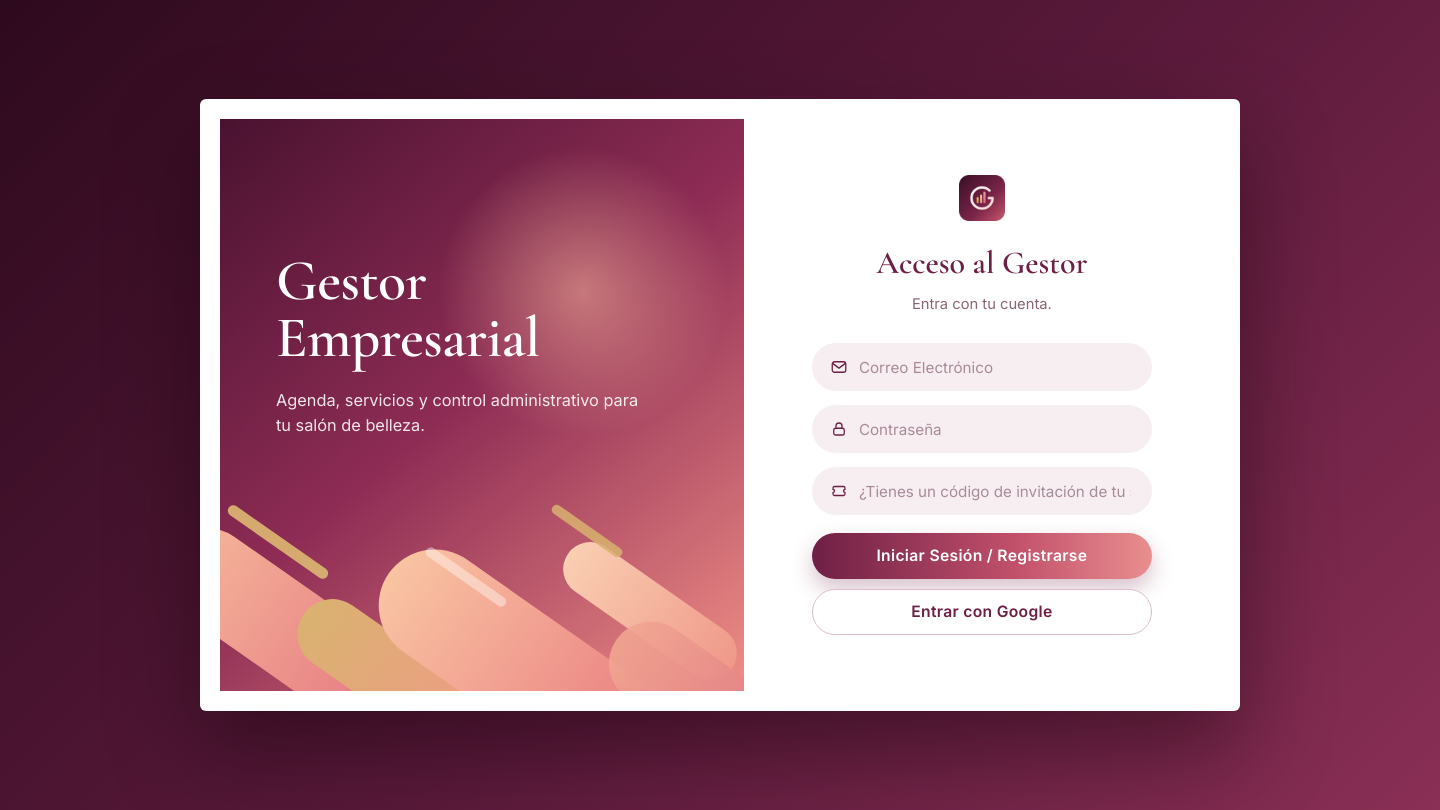
AuthScreen › muestra el mensaje de éxito cuando se envía el correo de registro
The image size is (1440, 810).
In the field labelled "Correo Electrónico": (982, 367) [812,343,1152,391], type "ana@test.com"
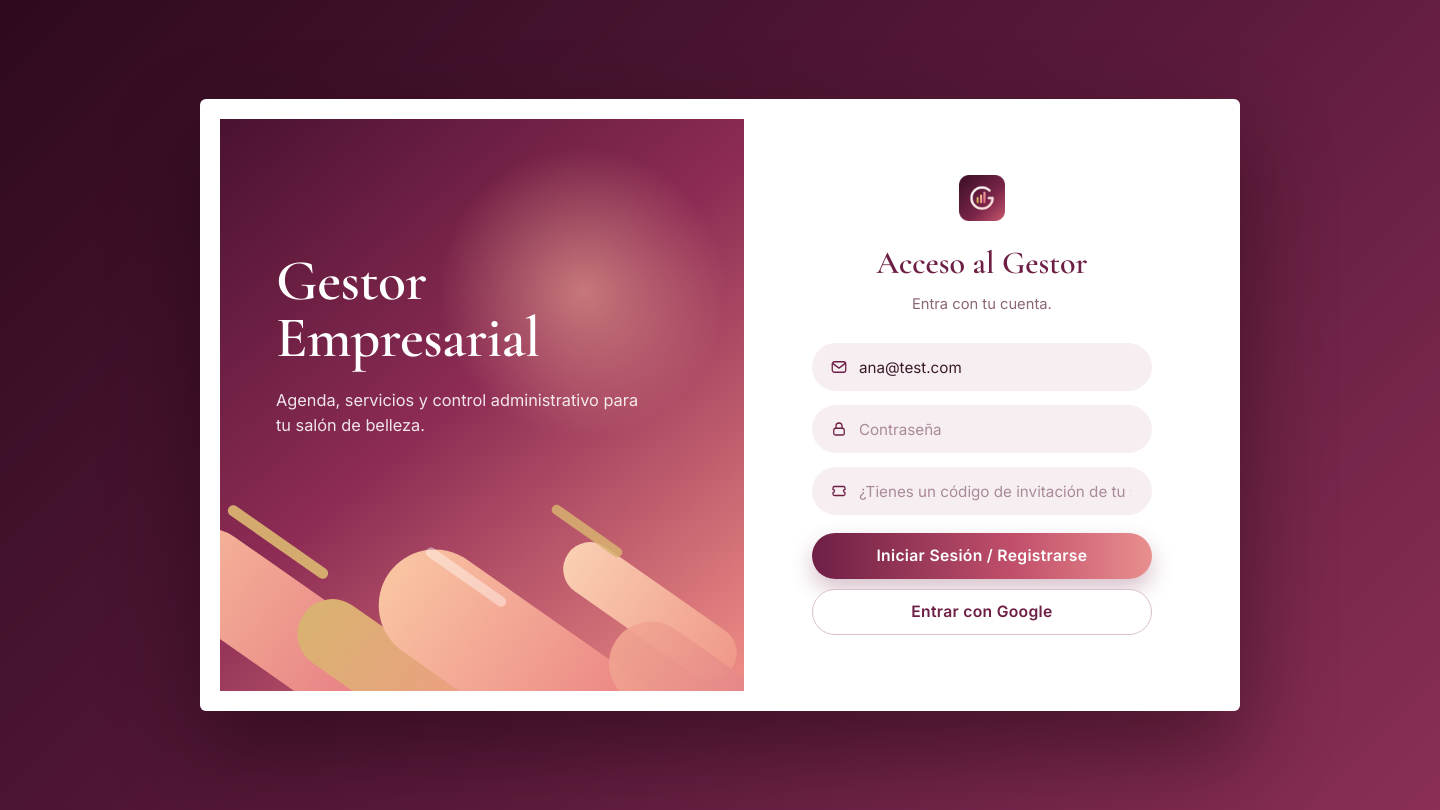
In the password field labelled "Contraseña": (982, 429) [812,405,1152,453], type "secret123"
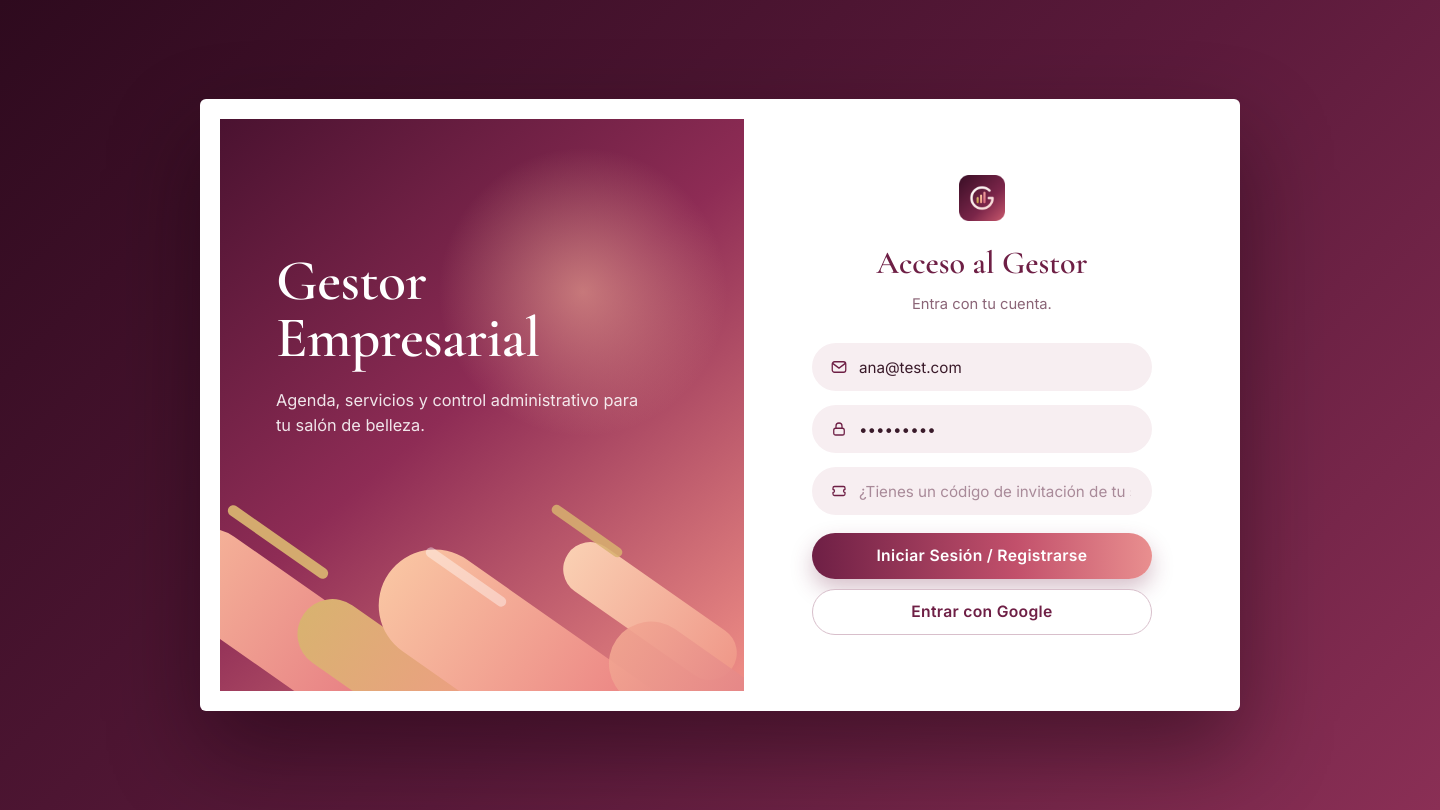
Click the button "Iniciar Sesión / Registrarse": (982, 556) [812,533,1152,579]
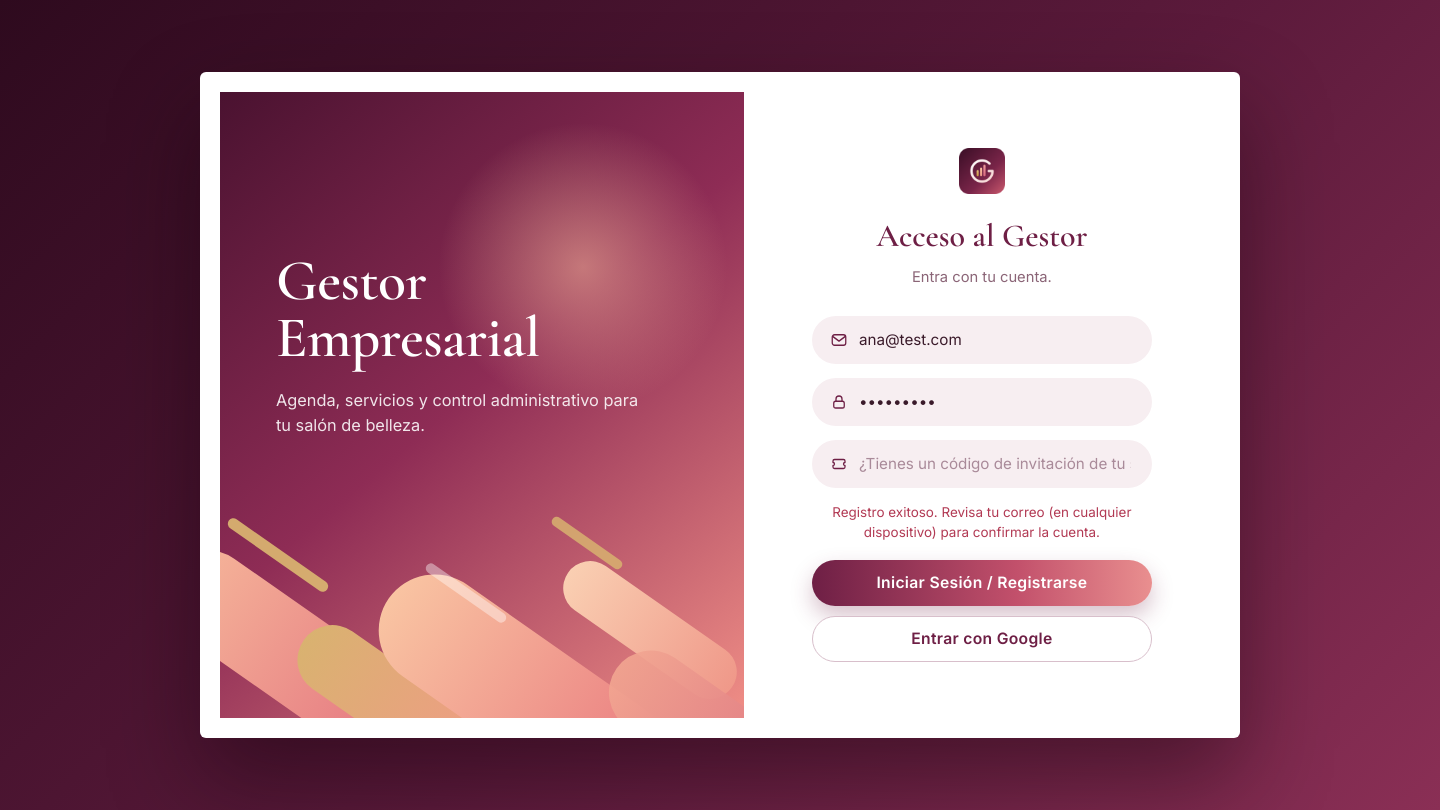
Result: the message shows "Revisa tu correo" at [832,504,1131,540]
